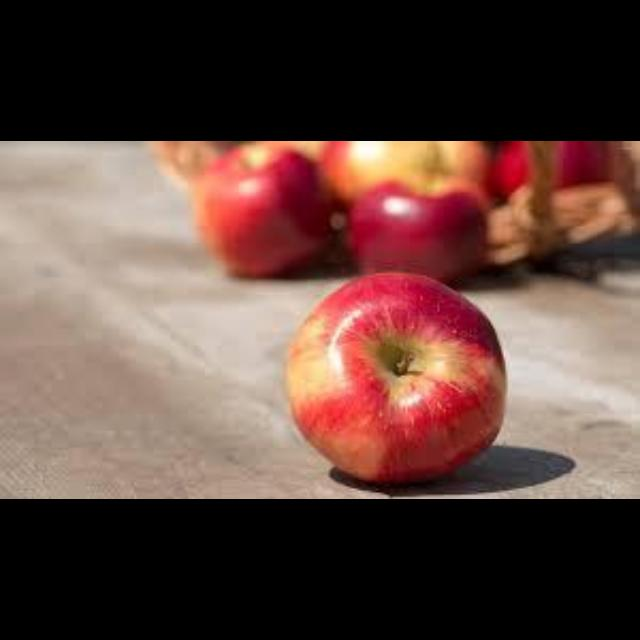apple: (286, 273, 503, 482), (192, 143, 331, 275), (348, 182, 486, 282), (320, 141, 486, 201), (555, 141, 608, 186), (489, 141, 529, 196)
